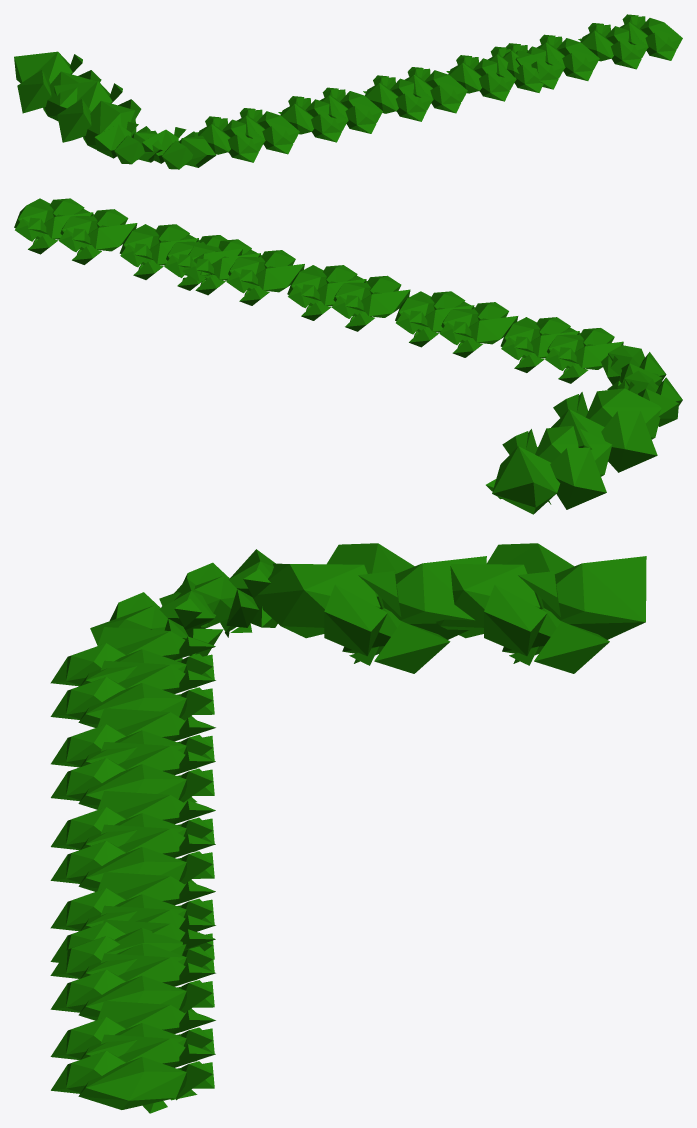
File: bushesRight.gltf
3 renders of one model, top to bottom at view 1: azimuth 30°, elevation 25°; view 2: azimuth 150°, elevation 25°; view 3: azimuth 270°, elevation 25°, orthographic. The views are drawn at different scales.
Visible parts, largest first — view 1: Bush.000, Bush.001, Bush.002_PCA; view 2: Bush.000, Bush.001, Bush.002_PCA; view 3: Bush.000, Bush.001, Bush.002_PCA.
Boxes of the visible parts, <box> form: Bush.000: <box>195,14,682,162</box>; Bush.001: <box>14,51,141,149</box>; Bush.002_PCA: <box>94,121,216,169</box>; Bush.000: <box>14,198,623,383</box>; Bush.001: <box>486,388,661,514</box>; Bush.002_PCA: <box>601,345,682,426</box>; Bush.000: <box>50,627,215,1113</box>; Bush.001: <box>253,543,646,673</box>; Bush.002_PCA: <box>90,549,277,660</box>.
Bounding box in the file's own units: 43.31 × 4.01 × 20.02.
